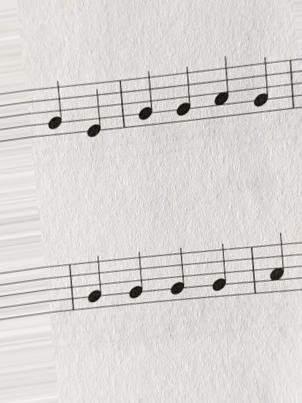note: (82, 253, 110, 315), (170, 62, 195, 131), (205, 241, 232, 303), (164, 245, 189, 309), (123, 249, 148, 313), (266, 230, 288, 299), (135, 67, 158, 133), (250, 52, 271, 120), (83, 80, 105, 143), (43, 80, 66, 139), (213, 53, 233, 118)
